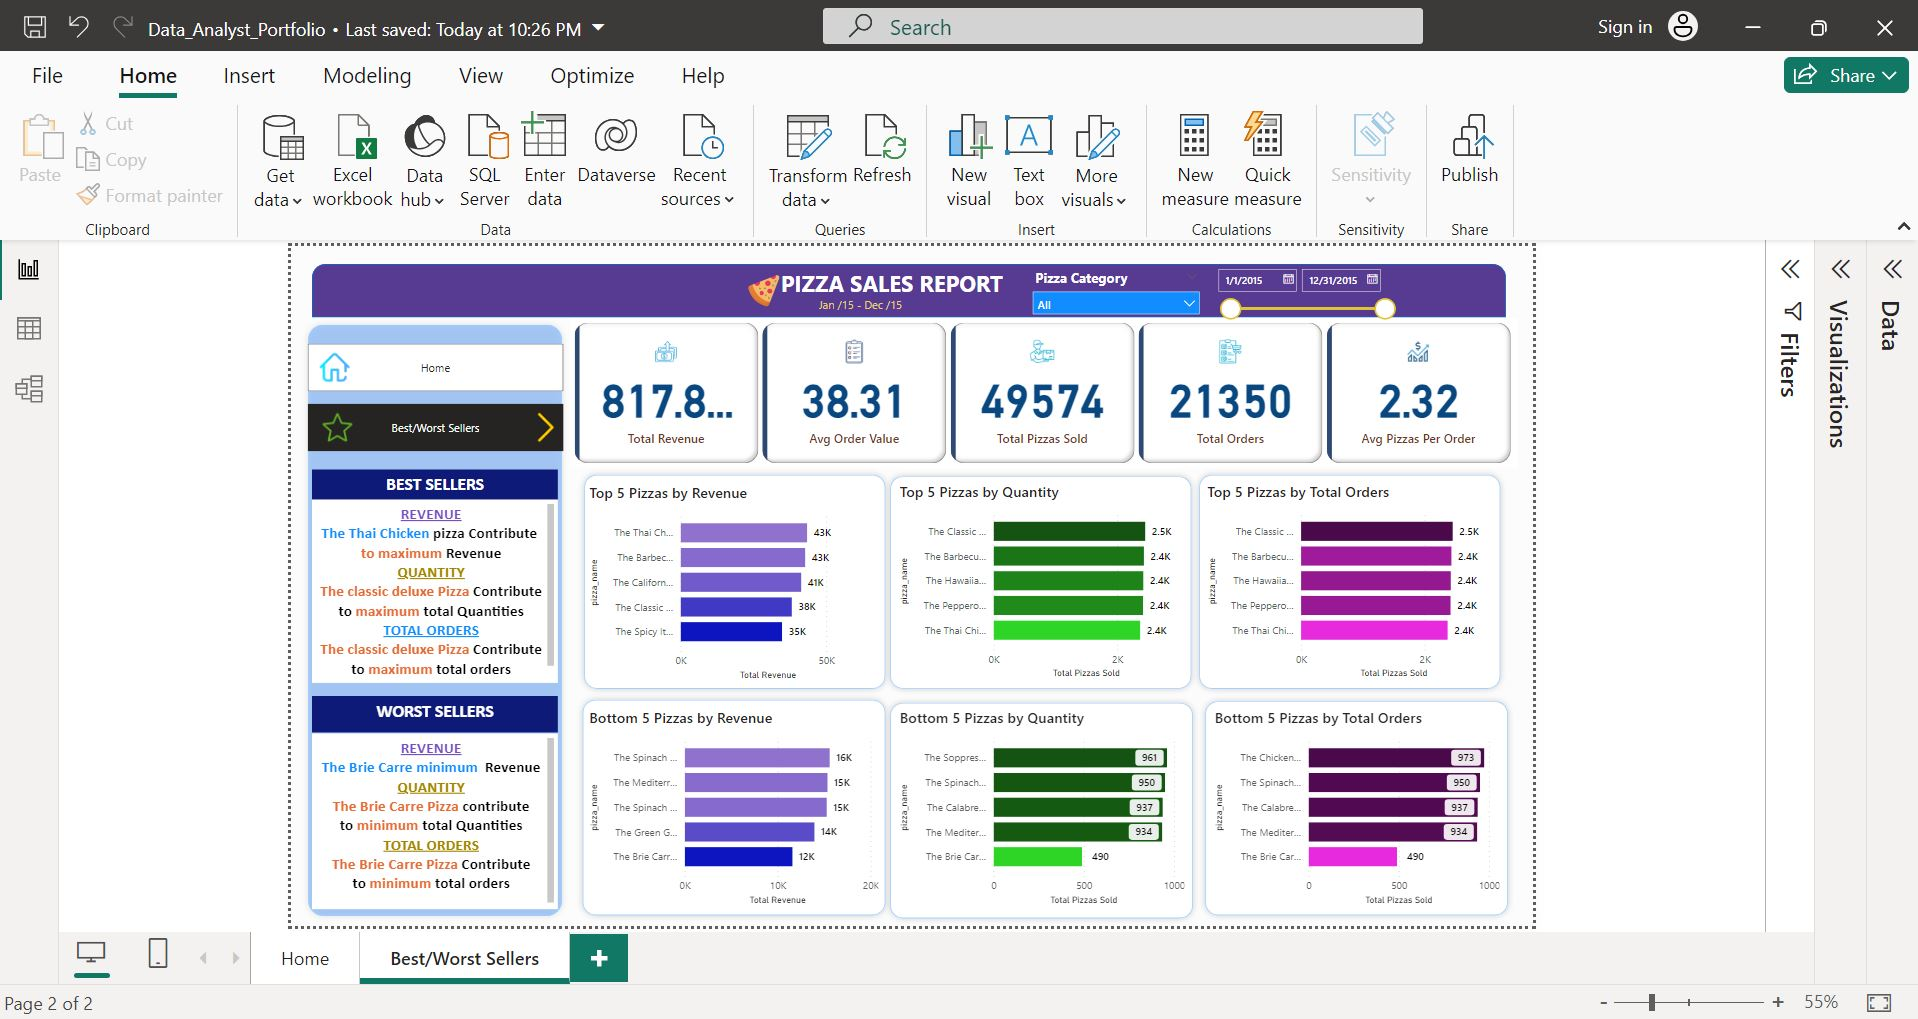

The dashboard page shown, as its layout file describes it:
{"tool":"powerbi","page":{"name":"Best/Worst Sellers","canvas":[1500,820],"ordinal":1},"visuals":[{"type":"cardVisual","fields":{"Data":["pizza_sales.Total Revenue","pizza_sales.Avg Order Value","pizza_sales.Total Pizzas Sold","pizza_sales.Total Orders","pizza_sales.Avg Pizzas Per Order"]},"box":[337.2,86.6,1144.3,180.6],"z":0},{"type":"shape","box":[25.8,22.1,1441,64.5],"z":1000},{"type":"textbox","box":[556.5,22.1,339.1,64.5],"z":2000},{"type":"textbox","box":[632,55.3,132.7,31.3],"z":3000},{"type":"image","box":[486.5,29.5,167.7,49.8],"z":4000},{"type":"shape","box":[346.4,267.2,379.6,274.6],"z":5000},{"type":"shape","box":[12.9,86.6,322.5,729.7],"z":6000},{"type":"textbox","box":[25.8,269,296.7,36.9],"z":7000},{"type":"textbox","box":[25.8,305.9,296.7,221.1],"z":8000},{"type":"textbox","box":[25.8,543.6,296.7,44.2],"z":9000},{"type":"textbox","box":[25.8,587.8,296.7,211.9],"z":10000},{"type":"slicer","fields":{"Values":["pizza_sales.pizza_category"]},"box":[884.5,22.1,221.1,64.5],"z":11000},{"type":"slicer","fields":{"Values":["pizza_sales.order_date"]},"box":[1105.6,18.4,235.9,84.8],"z":12000},{"type":"shape","box":[715,269,379.6,272.7],"z":13000},{"type":"shape","box":[1087.2,267.2,379.6,274.6],"z":14000},{"type":"shape","box":[344.6,539.9,381.4,276.4],"z":15000},{"type":"shape","box":[715,543.6,381.4,276.4],"z":16000},{"type":"shape","box":[1094.6,541.8,381.4,274.6],"z":17000},{"type":"barChart","title":"Top 5 Pizzas by Revenue","fields":{"Category":["pizza_sales.pizza_name"],"Y":["pizza_sales.Total Revenue"]},"box":[355.6,285.6,340.9,241.4],"z":18000},{"type":"barChart","title":"Bottom 5 Pizzas by Revenue","fields":{"Category":["pizza_sales.pizza_name"],"Y":["pizza_sales.Total Revenue"]},"box":[355.6,558.3,359.3,241.4],"z":19000},{"type":"barChart","title":"Top 5 Pizzas by Quantity","fields":{"Category":["pizza_sales.pizza_name"],"Y":["pizza_sales.Total Pizzas Sold"]},"box":[729.7,283.8,353.8,241.4],"z":20000},{"type":"barChart","title":"Bottom 5 Pizzas by Quantity","fields":{"Category":["pizza_sales.pizza_name"],"Y":["pizza_sales.Total Pizzas Sold"]},"box":[729.7,558.3,353.8,241.4],"z":21000},{"type":"barChart","title":"Top 5 Pizzas by Total Orders","fields":{"Category":["pizza_sales.pizza_name"],"Y":["pizza_sales.Total Pizzas Sold"]},"box":[1100.1,283.8,353.8,241.4],"z":22000},{"type":"barChart","title":"Bottom 5 Pizzas by Total Orders","fields":{"Category":["pizza_sales.pizza_name"],"Y":["pizza_sales.Total Pizzas Sold"]},"box":[1109.3,558.3,353.8,241.4],"z":23000},{"type":"pageNavigator","box":[20.3,189.8,309.6,59],"z":24000},{"type":"pageNavigator","box":[20.3,117.9,309.6,59],"z":25000},{"type":"image","box":[234,195.3,147.4,46.1],"z":26000},{"type":"image","box":[25.8,123.5,55.3,46.1],"z":27000},{"type":"image","box":[25.8,195.3,60.8,46.1],"z":28000}]}

Visuals, with their boxes on the page's 1500x820 design canvas (x1, y1, x2, y2). These are canvas units, not pixel positions in the 1918x1019 screenshot, which may show the page scaled, cropped or inside an application window:
cardVisual - pizza_sales.Total Revenue x pizza_sales.Avg Order Value: 337,87,1482,267
shape: 26,22,1467,87
textbox: 556,22,896,87
textbox: 632,55,765,87
image: 486,30,654,79
shape: 346,267,726,542
shape: 13,87,335,816
textbox: 26,269,322,306
textbox: 26,306,322,527
textbox: 26,544,322,588
textbox: 26,588,322,800
slicer - pizza_sales.pizza_category: 884,22,1106,87
slicer - pizza_sales.order_date: 1106,18,1342,103
shape: 715,269,1095,542
shape: 1087,267,1467,542
shape: 345,540,726,816
shape: 715,544,1096,820
shape: 1095,542,1476,816
"Top 5 Pizzas by Revenue" barChart: 356,286,696,527
"Bottom 5 Pizzas by Revenue" barChart: 356,558,715,800
"Top 5 Pizzas by Quantity" barChart: 730,284,1084,525
"Bottom 5 Pizzas by Quantity" barChart: 730,558,1084,800
"Top 5 Pizzas by Total Orders" barChart: 1100,284,1454,525
"Bottom 5 Pizzas by Total Orders" barChart: 1109,558,1463,800
pageNavigator: 20,190,330,249
pageNavigator: 20,118,330,177
image: 234,195,381,241
image: 26,124,81,170
image: 26,195,87,241
